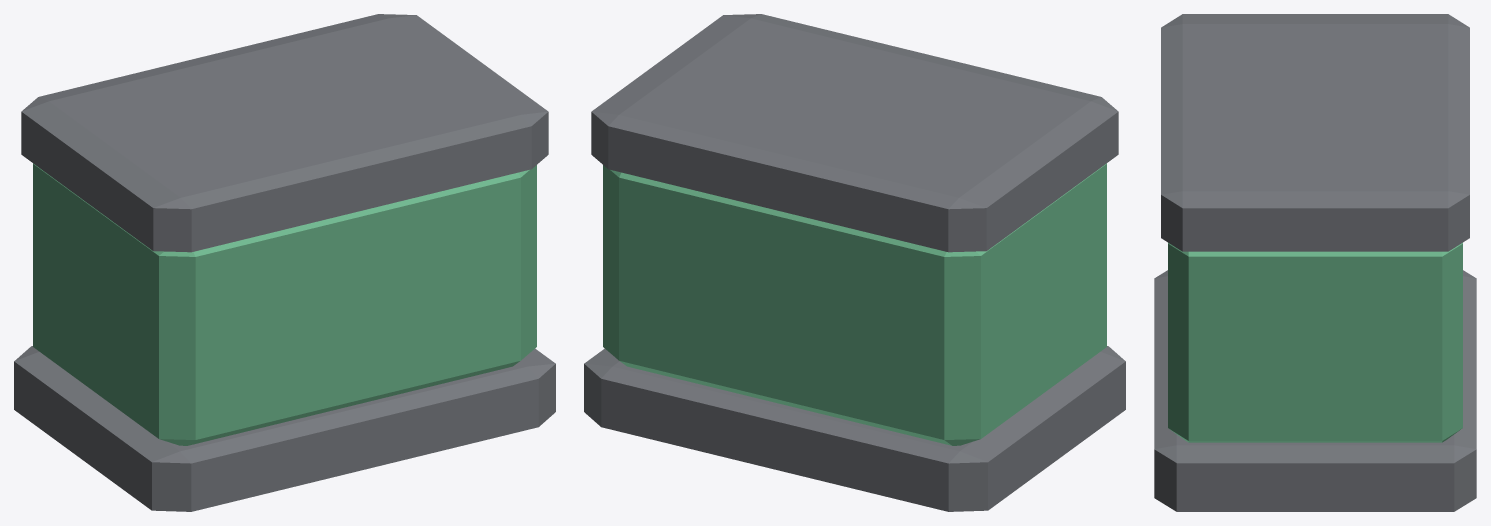
The model's file is b04_front_load_commercial_dumpster.glb.
The picture shows the model from 3 angles, left to right: view 1: azimuth 30°, elevation 25°; view 2: azimuth 150°, elevation 25°; view 3: azimuth 270°, elevation 25°; orthographic projection.
Parts seen in each view (by area): view 1: b04_front_load_commercial_dumpster; view 2: b04_front_load_commercial_dumpster; view 3: b04_front_load_commercial_dumpster.
Boxes of the visible parts, box(x1,y1,x2,y2) form: b04_front_load_commercial_dumpster: box(14, 14, 555, 511); b04_front_load_commercial_dumpster: box(584, 14, 1125, 511); b04_front_load_commercial_dumpster: box(1154, 14, 1476, 511).
Size of the model in its own units: 2.68 by 1.95 by 1.84.
